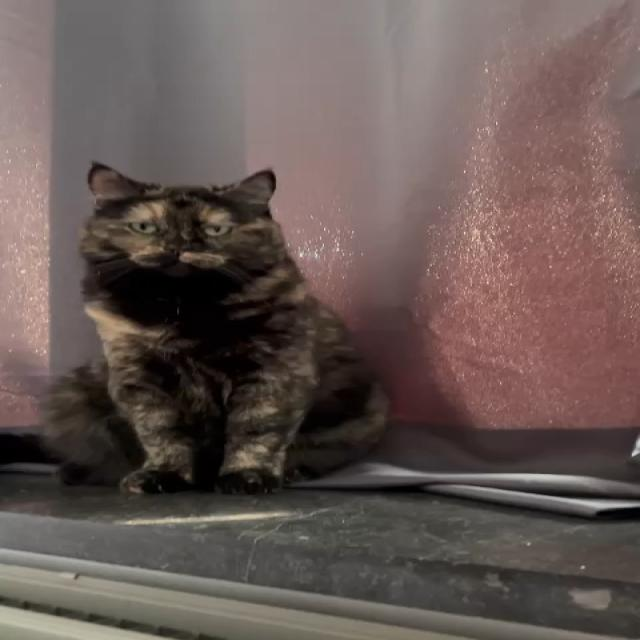authorized: (39, 160, 392, 496)
